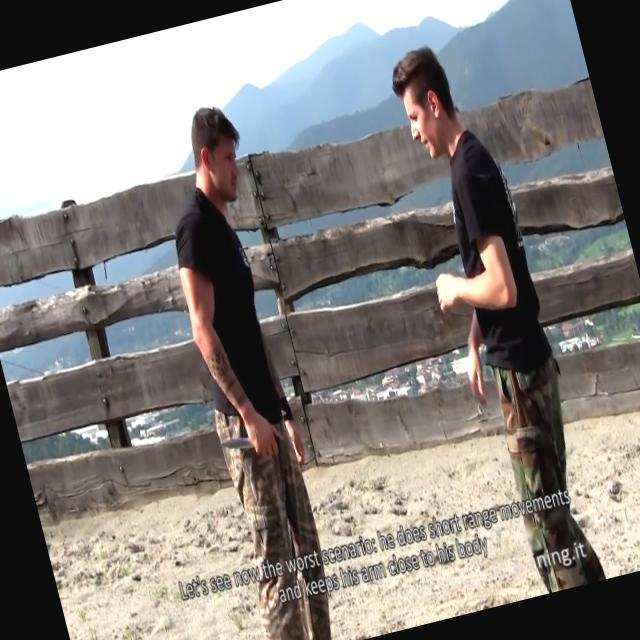knife: (210, 408, 280, 473)
